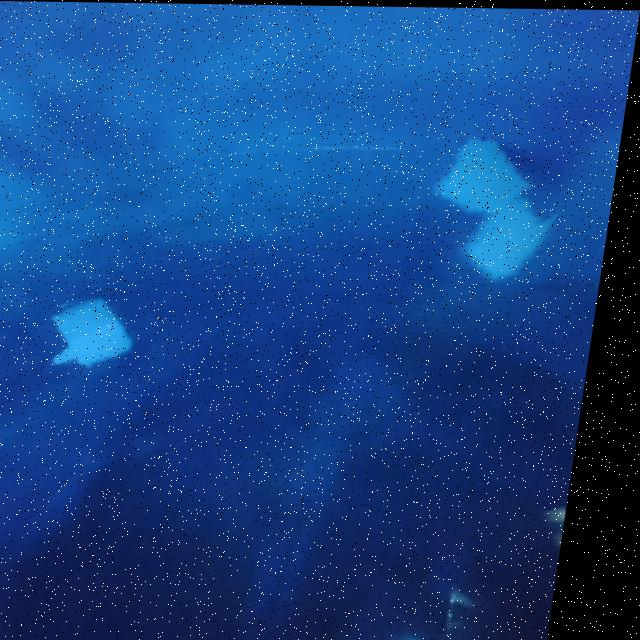thermocoal: (412, 120, 575, 282), (34, 292, 169, 385)
